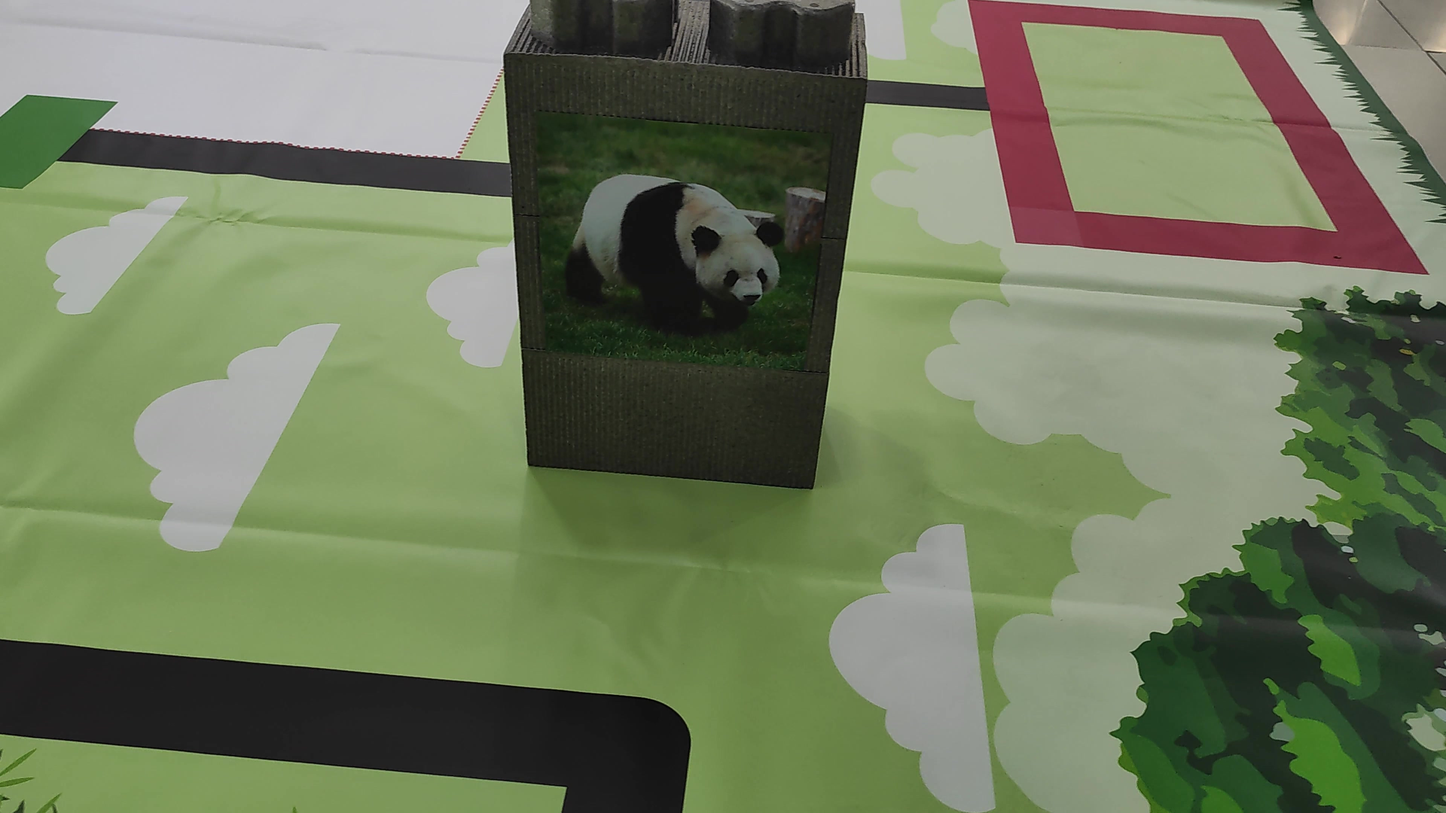panda: (545, 144, 802, 355)
